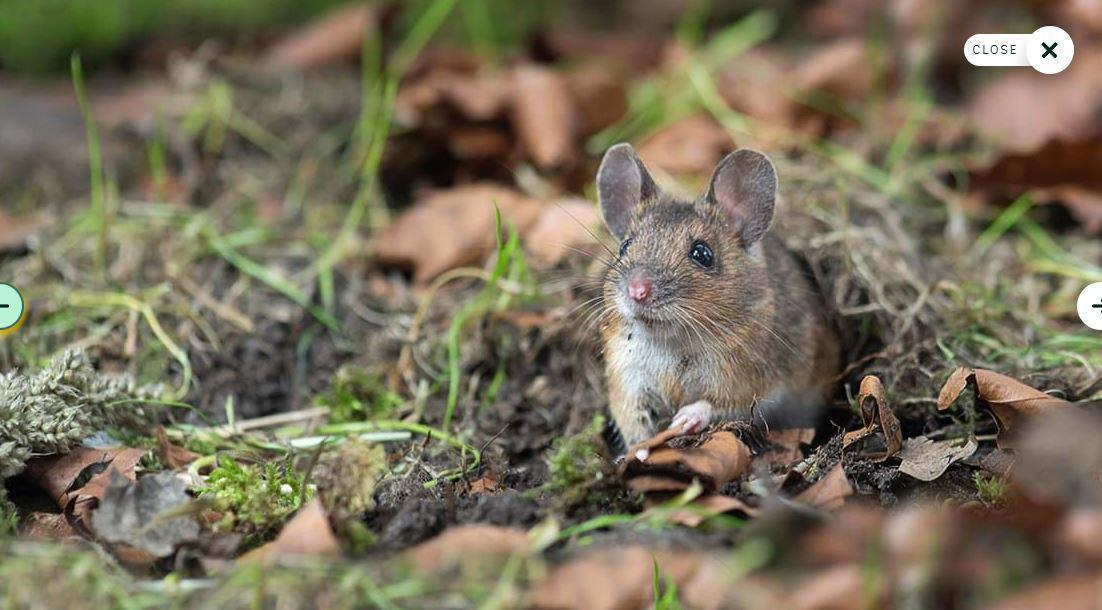rat: (596, 141, 840, 448)
